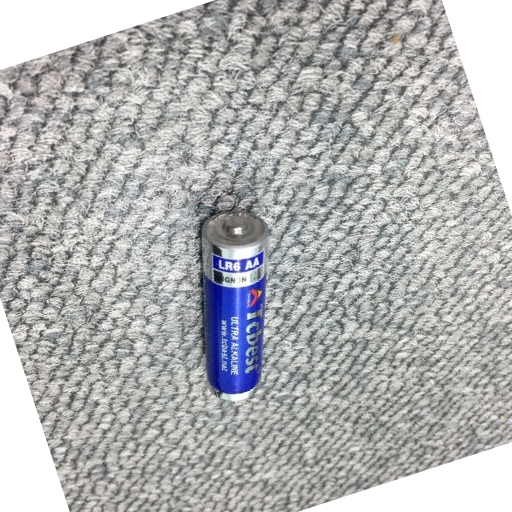Battery_0: (186, 196, 291, 419)
